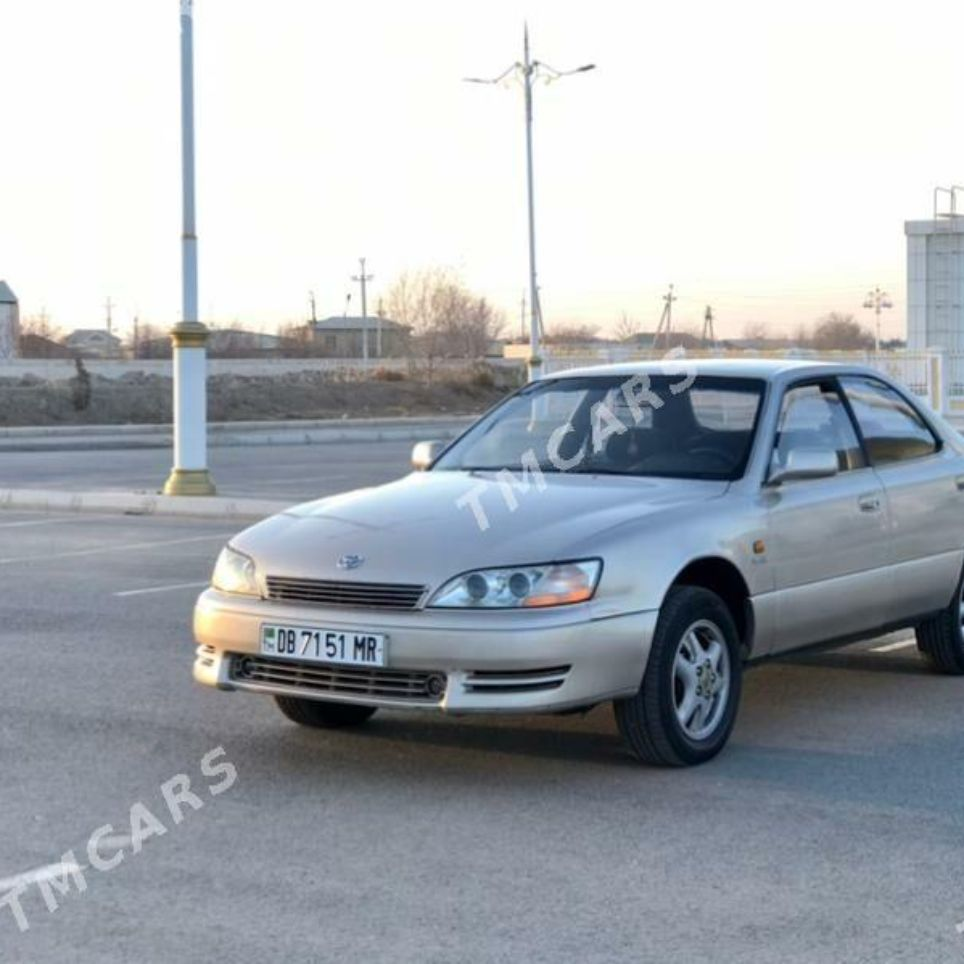license plate: (257, 622, 391, 666)
truck: (190, 357, 963, 764)
